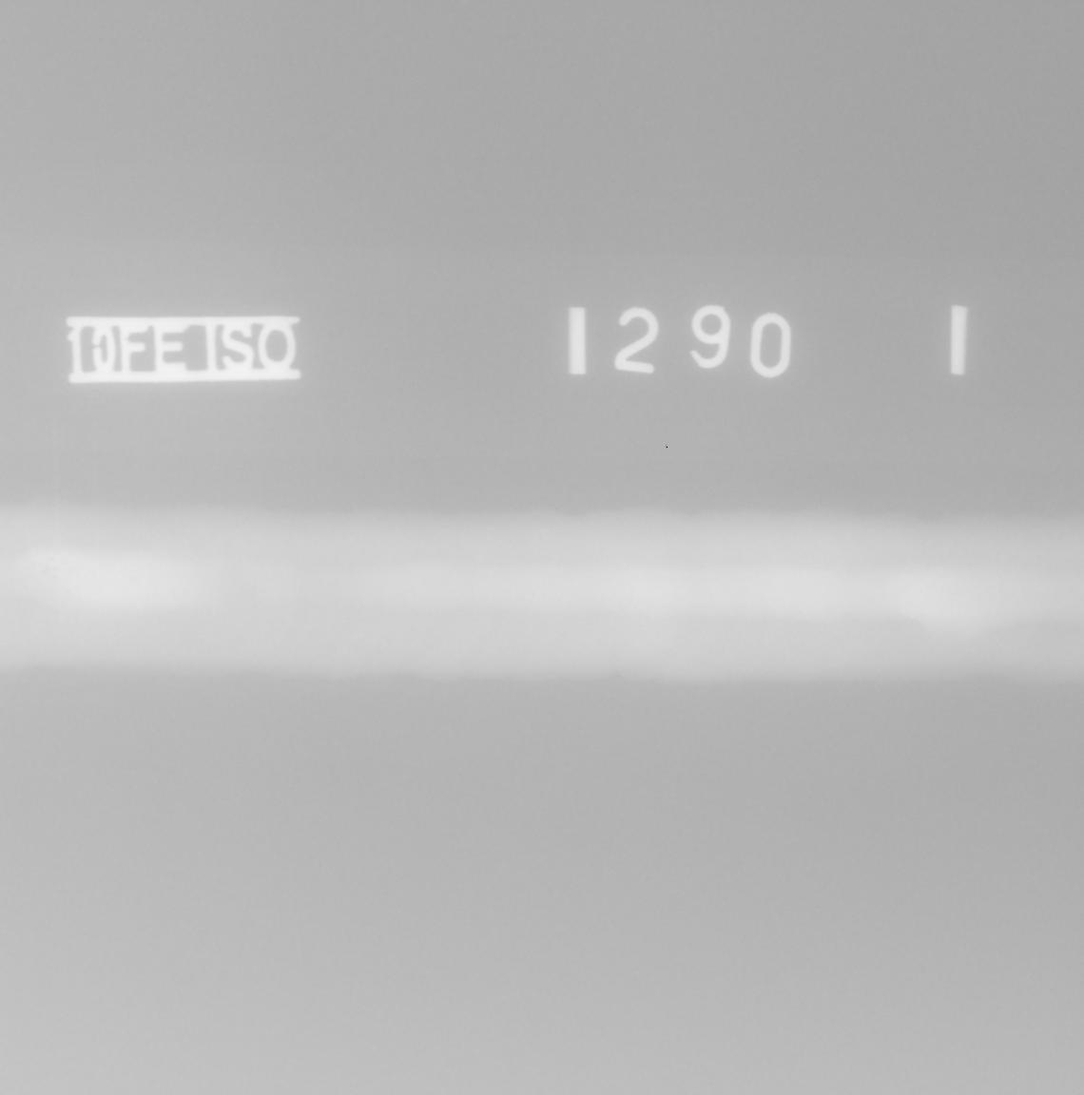Pore/Porosity: (129, 576, 140, 584), (42, 566, 51, 574), (69, 568, 75, 574), (48, 557, 55, 562), (61, 562, 69, 566), (32, 562, 38, 567), (50, 575, 56, 579), (53, 567, 58, 571), (65, 590, 69, 595)
